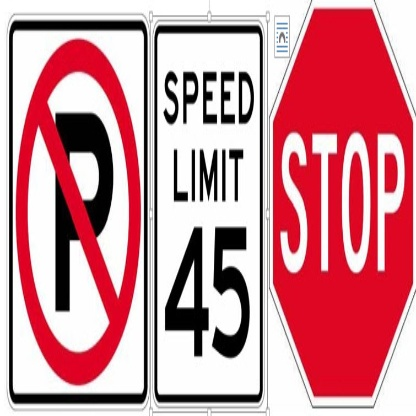limit1: (150, 16, 268, 410)
stop: (269, 1, 416, 409)
